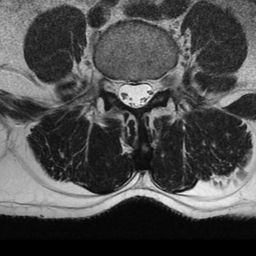CCS_normal: (130, 71, 141, 116)
LFS_normal: (155, 68, 166, 101)
LLS_normal: (141, 69, 154, 109)
RFS_normal: (109, 67, 120, 104)
RLS_normal: (119, 72, 129, 111)
